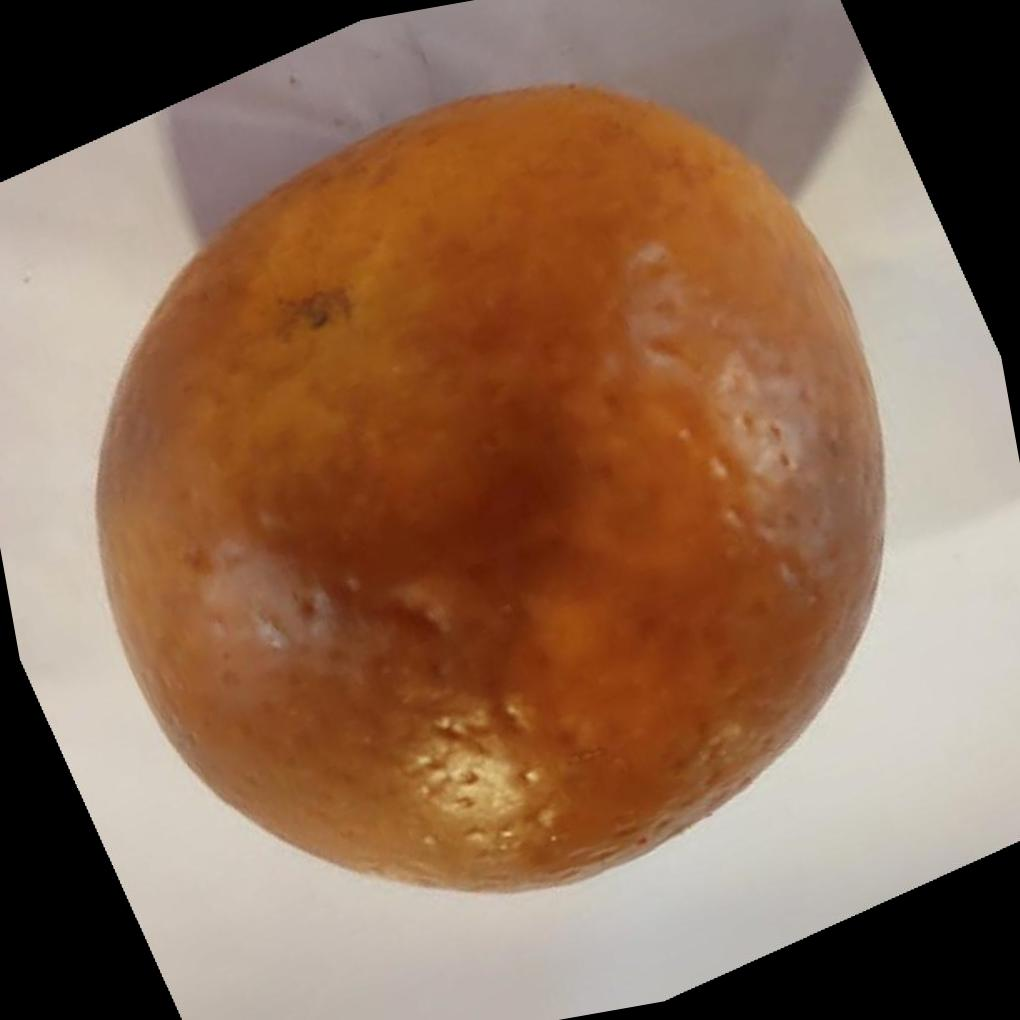FreshOrange: (91, 78, 888, 892)
